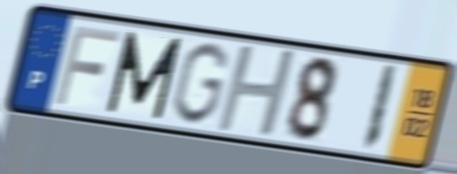8: (284, 54, 342, 145)
F: (51, 22, 124, 108)
G: (168, 40, 233, 128)
H: (212, 44, 300, 139)
I: (358, 62, 401, 155)
M: (103, 28, 186, 122)
